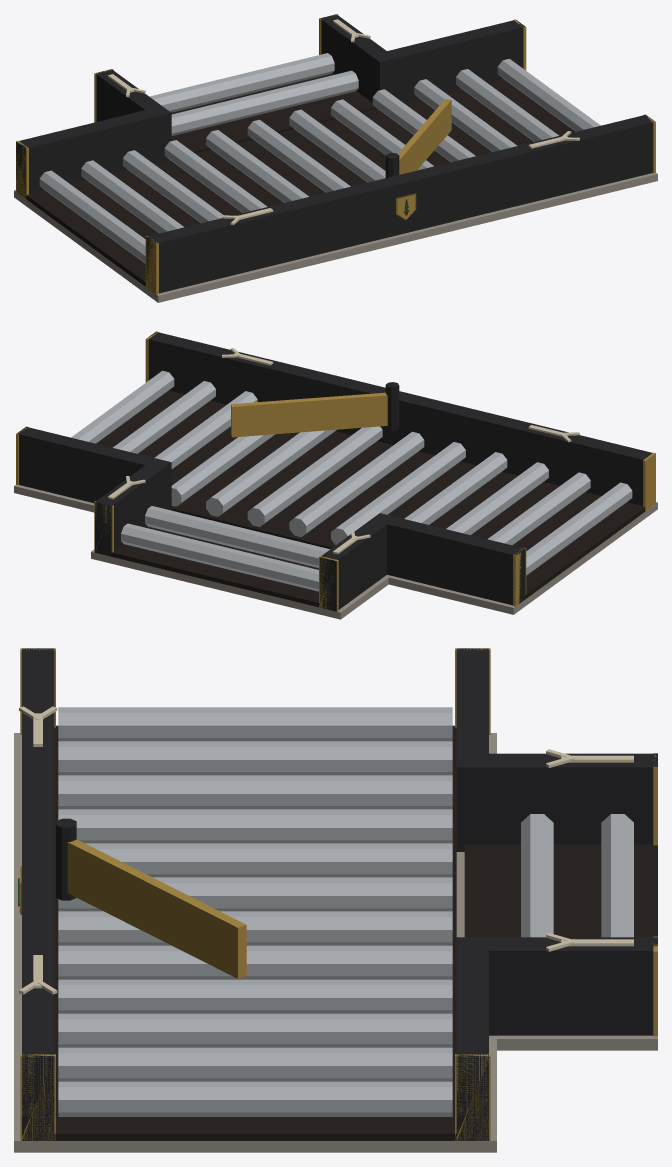
The model's file is SwitchBelt.glb.
The picture shows the model from 3 angles, top to bottom: view 1: azimuth 30°, elevation 25°; view 2: azimuth 150°, elevation 25°; view 3: azimuth 270°, elevation 25°; orthographic projection. The views are drawn at different scales.
Visible parts, largest first — view 1: Body, Rollers, Belt, Gate, ArrowDecal; view 2: Body, Rollers, Belt, Gate, ArrowDecal; view 3: Rollers, Body, Belt, Gate, ArrowDecal.
Boxes of the visible parts, bbox=[...] form: Body: bbox=[14, 14, 657, 302]; Rollers: bbox=[39, 53, 600, 263]; Belt: bbox=[26, 73, 575, 286]; Gate: bbox=[385, 99, 451, 177]; ArrowDecal: bbox=[108, 19, 579, 225]; Body: bbox=[14, 331, 657, 619]; Rollers: bbox=[71, 370, 632, 591]; Belt: bbox=[96, 390, 645, 607]; Gate: bbox=[231, 382, 399, 437]; ArrowDecal: bbox=[108, 348, 579, 554]; Rollers: bbox=[58, 707, 633, 1116]; Body: bbox=[14, 648, 657, 1152]; Belt: bbox=[54, 725, 657, 1140]; Gate: bbox=[56, 818, 246, 978]; ArrowDecal: bbox=[19, 706, 633, 994].
Size of the model in its own units: 12 by 1.72 by 8.
